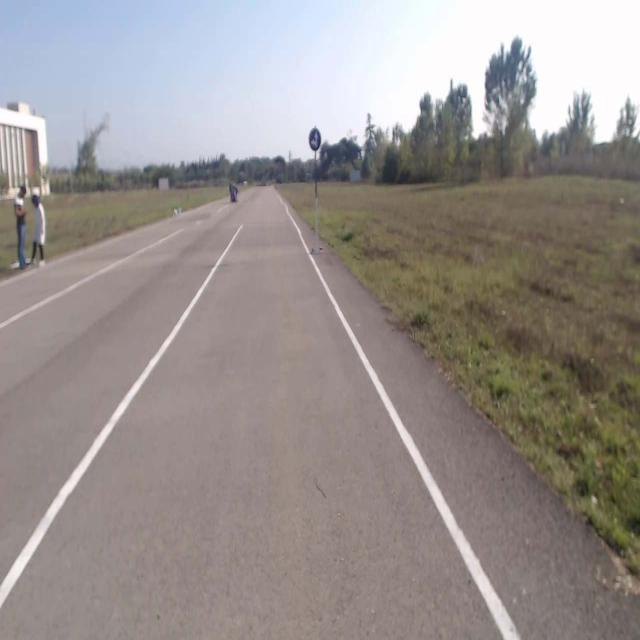ilerisol: (309, 129, 321, 150)
